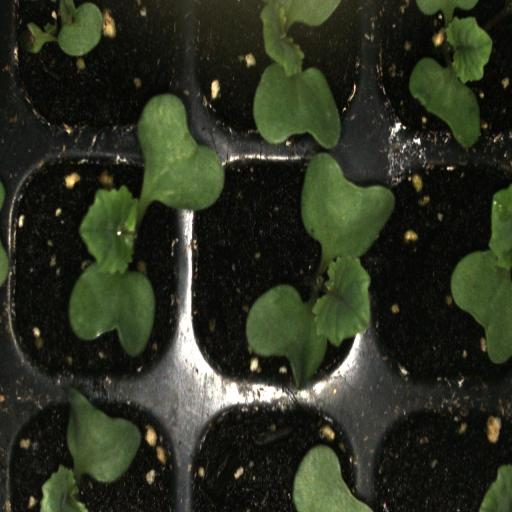seedling: (2, 142, 190, 394), (190, 150, 364, 397), (185, 0, 364, 151), (363, 0, 512, 161)
weak: (6, 0, 192, 146)
